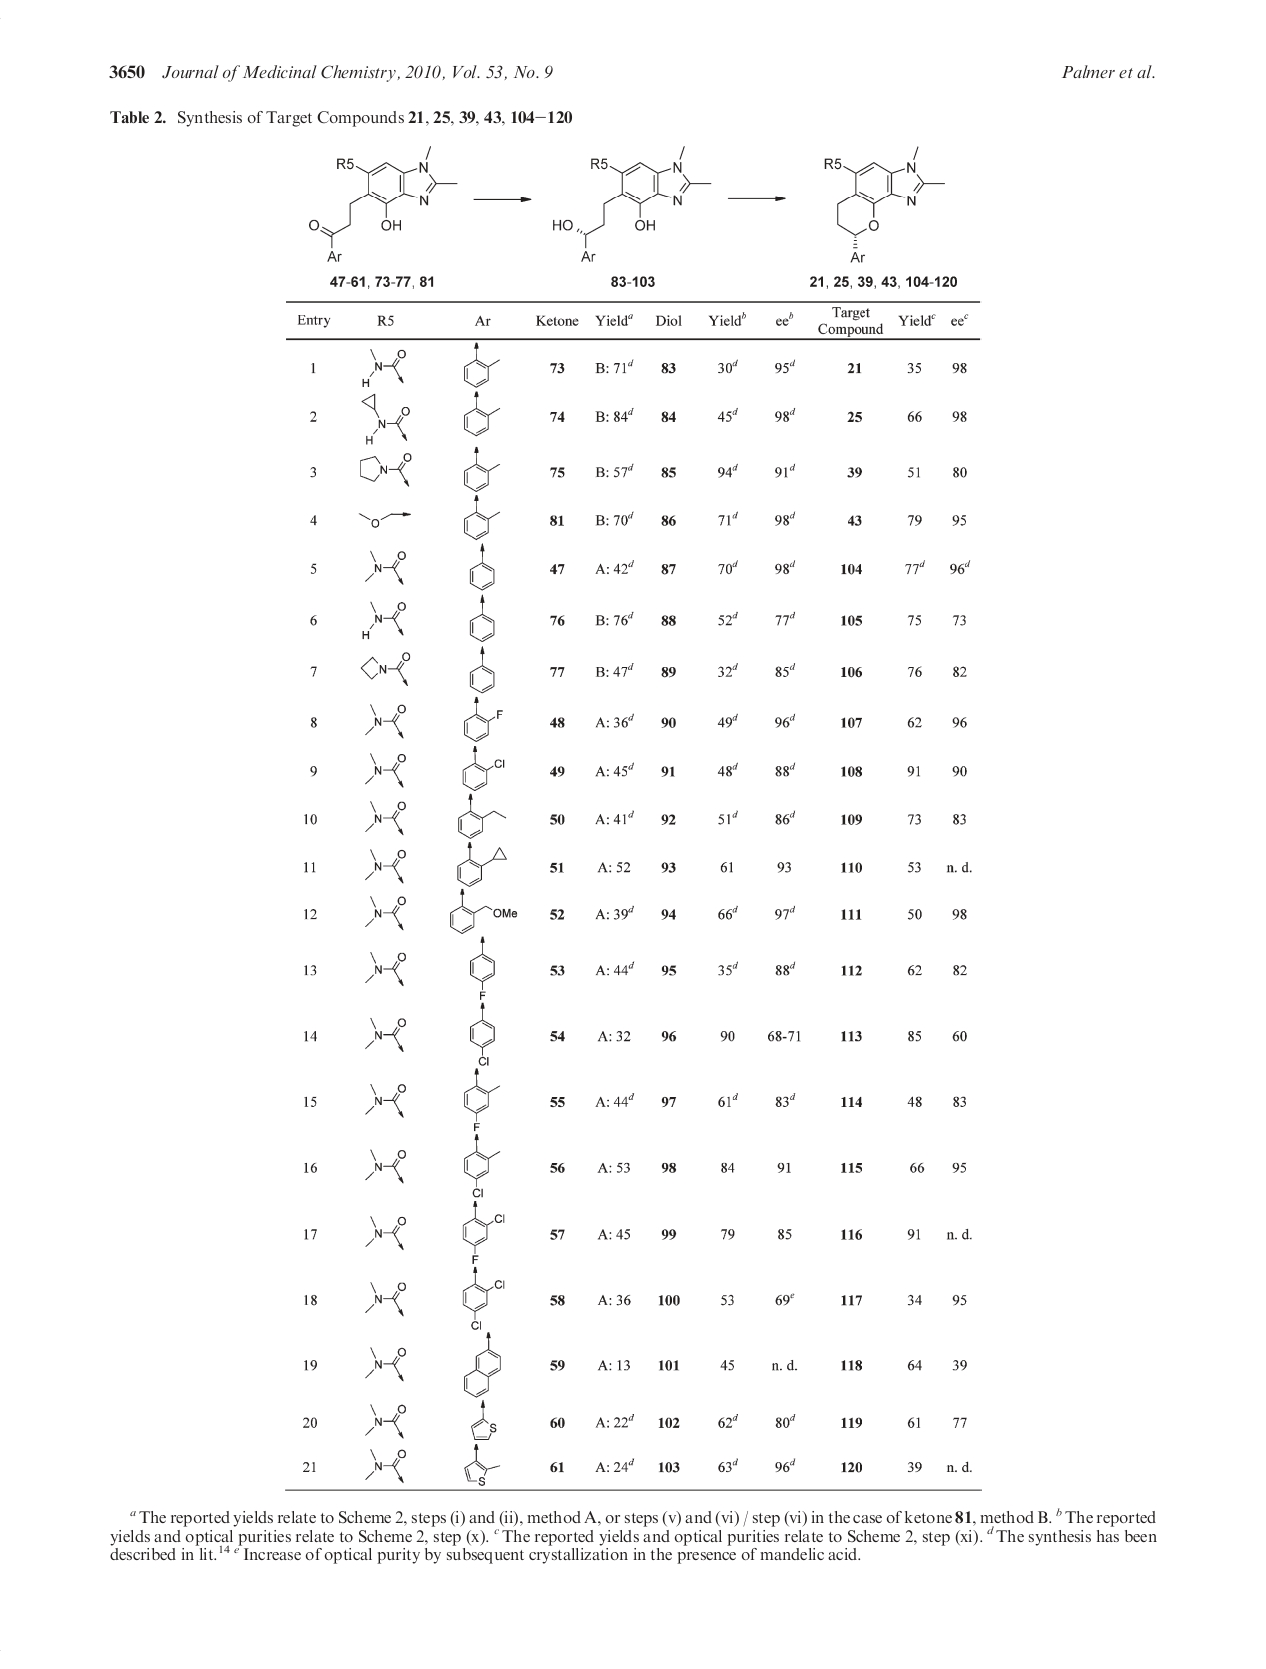exist_molecular: (303, 134, 461, 266), (548, 142, 714, 266), (821, 144, 948, 266), (452, 1263, 511, 1331), (438, 839, 515, 888), (448, 886, 521, 938), (451, 1329, 505, 1398), (452, 1196, 507, 1265), (453, 1130, 503, 1197), (461, 1003, 508, 1069), (456, 742, 516, 793), (453, 793, 516, 840), (358, 392, 414, 446), (459, 932, 501, 1001), (356, 446, 416, 489), (461, 1068, 503, 1130), (362, 1009, 418, 1055), (360, 891, 416, 935), (358, 343, 410, 390), (358, 544, 411, 589), (358, 648, 414, 689), (360, 596, 408, 644), (455, 1443, 505, 1488), (360, 1342, 412, 1384), (359, 844, 412, 886), (362, 1443, 412, 1485), (360, 1402, 412, 1443), (461, 697, 508, 742), (362, 946, 410, 989), (364, 1274, 410, 1319), (360, 1212, 407, 1255), (460, 390, 503, 438), (360, 1146, 415, 1184), (460, 492, 501, 541), (461, 443, 501, 493), (360, 801, 416, 836), (363, 700, 410, 742), (461, 342, 501, 390), (362, 1080, 410, 1118), (351, 505, 420, 532), (464, 644, 497, 698), (363, 750, 408, 790), (461, 1398, 499, 1443), (465, 593, 497, 644), (465, 543, 496, 594)
